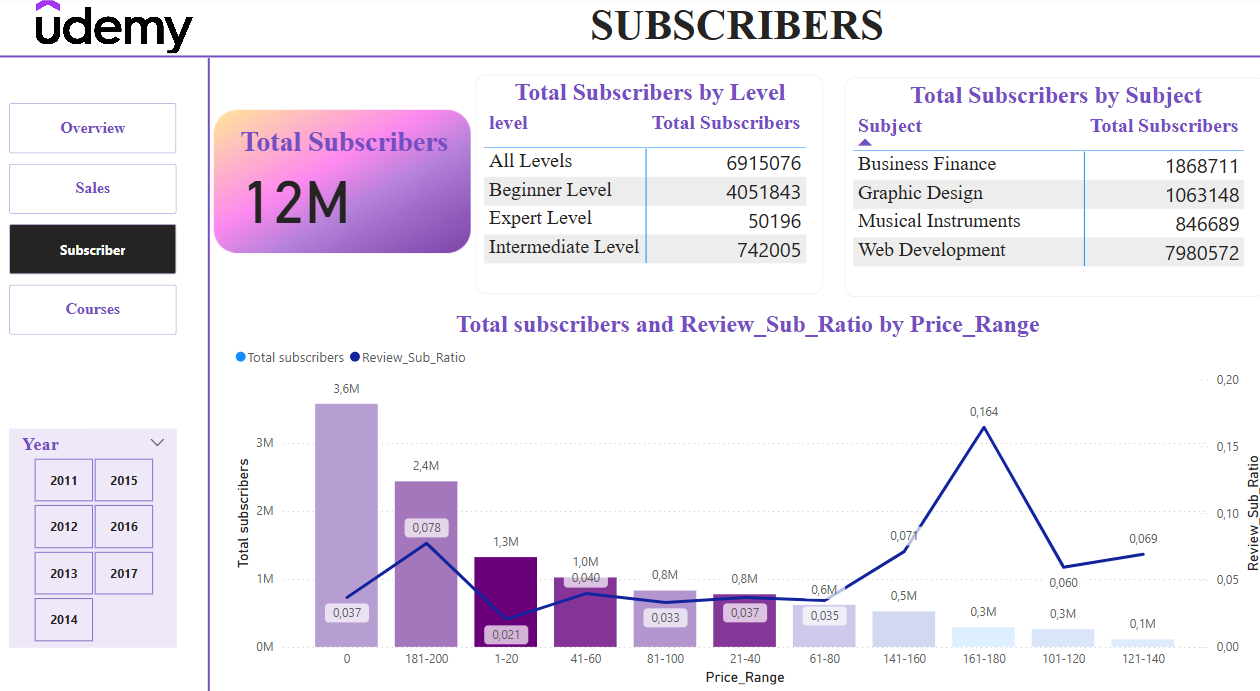

The page's visual inventory and layout, read from the dashboard file:
{"tool":"powerbi","page":{"name":"Subscriber","canvas":[1280,720],"ordinal":2},"visuals":[{"type":"lineStackedColumnComboChart","fields":{"Category":["Udemy Courses Dataset.Price_Range"],"Y":["Sum(Udemy Courses Dataset.num_subscribers)"],"Y2":["Udemy Courses Dataset.Review_Sub_Ratio"]},"box":[234.9,317.8,1045.7,383.2],"z":0},{"type":"image","box":[213.8,38.5,269.6,300.4],"z":1000},{"type":"image","box":[22.3,0,190.9,63.6],"z":2000},{"type":"pivotTable","title":"Total Subscribers by Subject","fields":{"Values":["Udemy Courses Dataset.Total Subscribers"],"Rows":["Udemy Courses Dataset.subject"]},"box":[855.1,82.8,425.6,221.5],"z":3000},{"type":"pivotTable","title":"Total Subscribers by Level","fields":{"Values":["Udemy Courses Dataset.Total Subscribers"],"Rows":["Udemy Courses Dataset.level"]},"box":[483.4,80.9,350.5,221.5],"z":4000},{"type":"cardVisual","title":"SALES ","fields":{"Data":["Udemy Courses Dataset.Total Subscribers"]},"box":[229.2,115.5,254.2,146.4],"z":5000},{"type":"pageNavigator","box":[11.6,109.8,169.5,234.9],"z":6000},{"type":"slicer","fields":{"Values":["Udemy Courses Dataset.published_timestamp.Variation.Date Hierarchy.Year"]},"box":[11.6,437.2,169.5,221.5],"z":7000},{"type":"shape","box":[63.6,63.6,300.4,656.7],"z":8000},{"type":"shape","box":[0,9.6,1280.7,105.9],"z":9000},{"type":"textbox","box":[213.8,0,1066.9,63.6],"z":10000}]}

Visuals, with their boxes in screenshot pixels (x1, y1, x2, y2), scaled from the page's 1280x720 canvas onto the 1260x691 screenshot:
lineStackedColumnComboChart - Udemy Courses Dataset.Price_Range x Sum(Udemy Courses Dataset.num_subscribers): (left=231, top=305, right=1259, bottom=673)
image: (left=210, top=37, right=476, bottom=325)
image: (left=22, top=0, right=210, bottom=61)
"Total Subscribers by Subject" pivotTable: (left=842, top=79, right=1259, bottom=292)
"Total Subscribers by Level" pivotTable: (left=476, top=78, right=821, bottom=290)
"SALES " cardVisual: (left=226, top=111, right=476, bottom=251)
pageNavigator: (left=11, top=105, right=178, bottom=331)
slicer - Udemy Courses Dataset.published_timestamp.Variation.Date Hierarchy.Year: (left=11, top=420, right=178, bottom=632)
shape: (left=63, top=61, right=358, bottom=690)
shape: (left=0, top=9, right=1259, bottom=111)
textbox: (left=210, top=0, right=1259, bottom=61)
